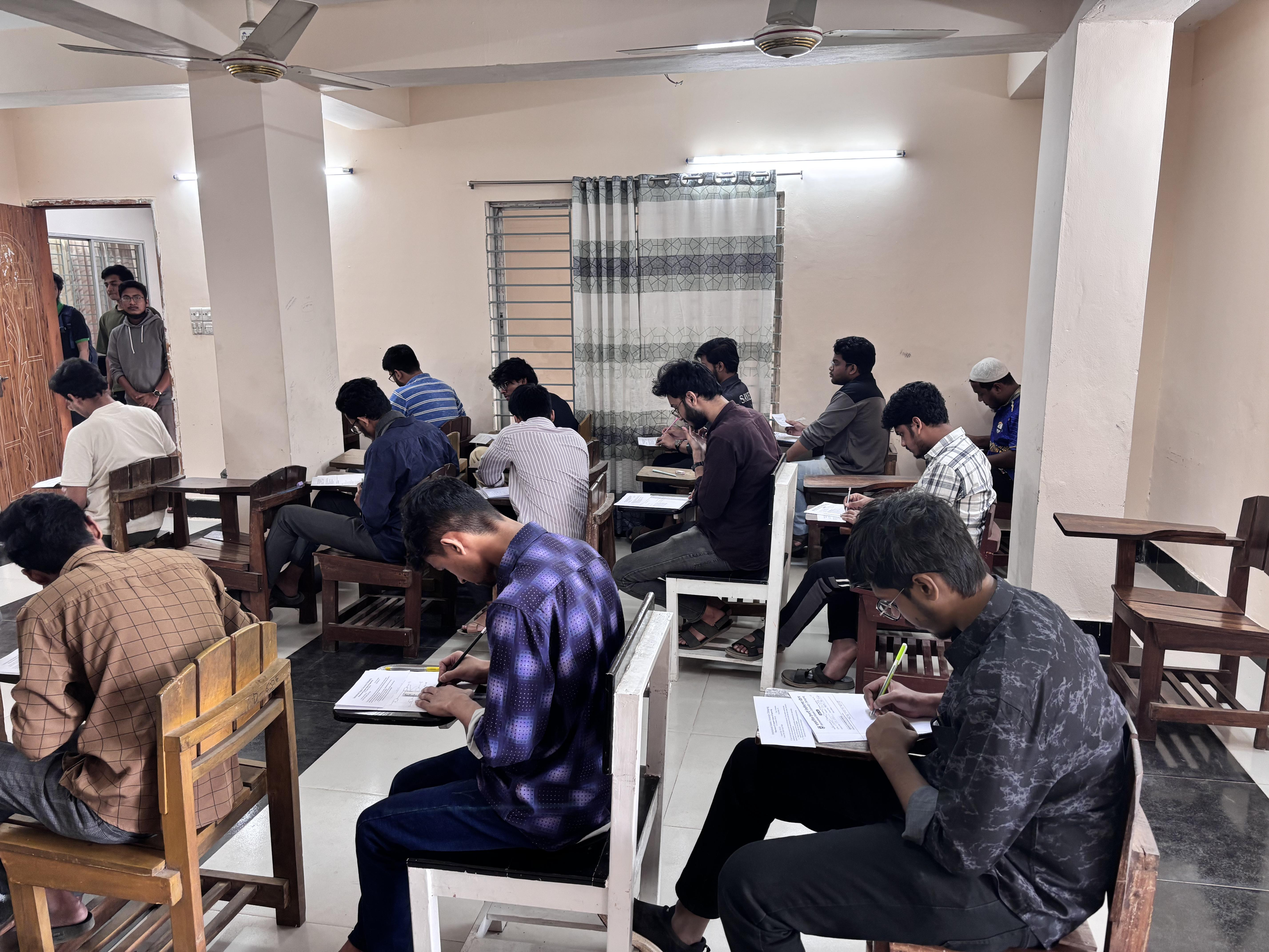invigilator: (103, 281, 180, 437), (91, 262, 140, 357)
no_cheating: (643, 486, 1140, 952), (340, 473, 644, 950), (1, 488, 282, 902), (613, 336, 783, 604), (267, 378, 457, 583), (31, 359, 187, 531), (866, 381, 1001, 543), (960, 357, 1045, 492), (372, 333, 467, 446), (689, 330, 755, 387)
side_talking: (472, 389, 611, 576)
suspicious_moving: (485, 358, 575, 413)
unauthorized_notes: (768, 322, 896, 484)
